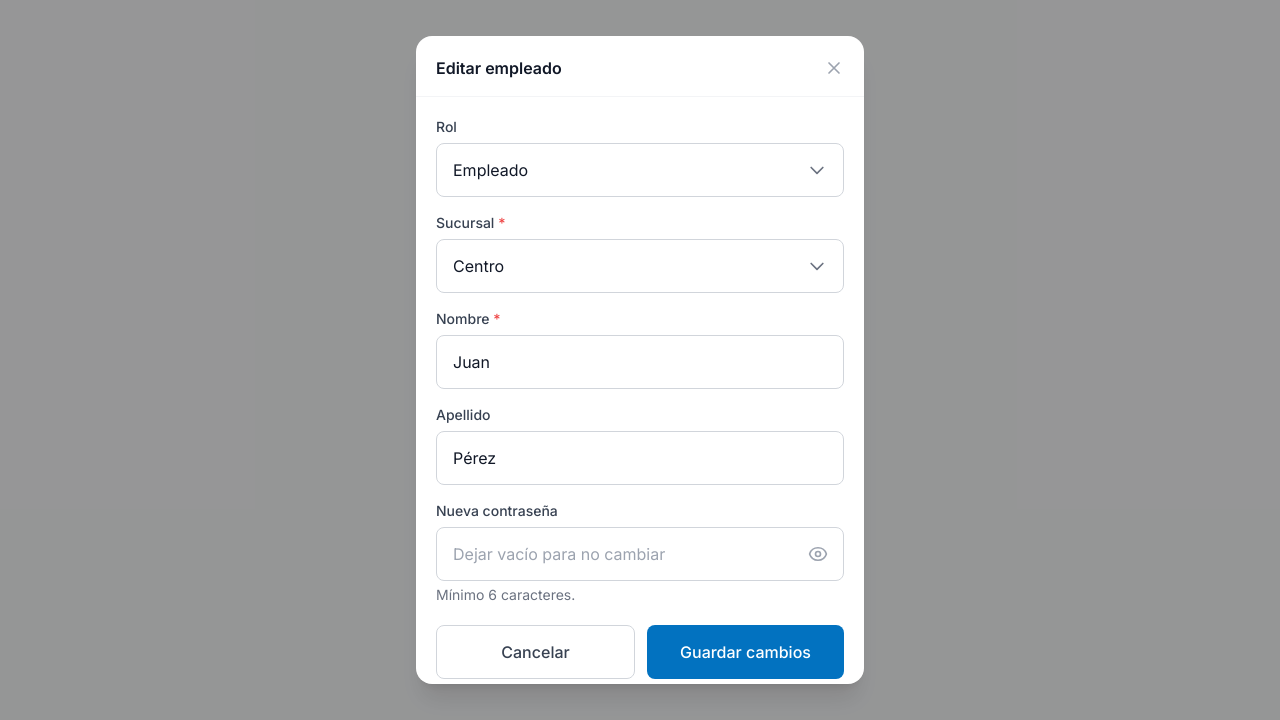
EmpleadoEditModal › muestra el error que devuelve el api
Click the button "Guardar cambios" at {"x": 746, "y": 652}, box [647,625,844,679]
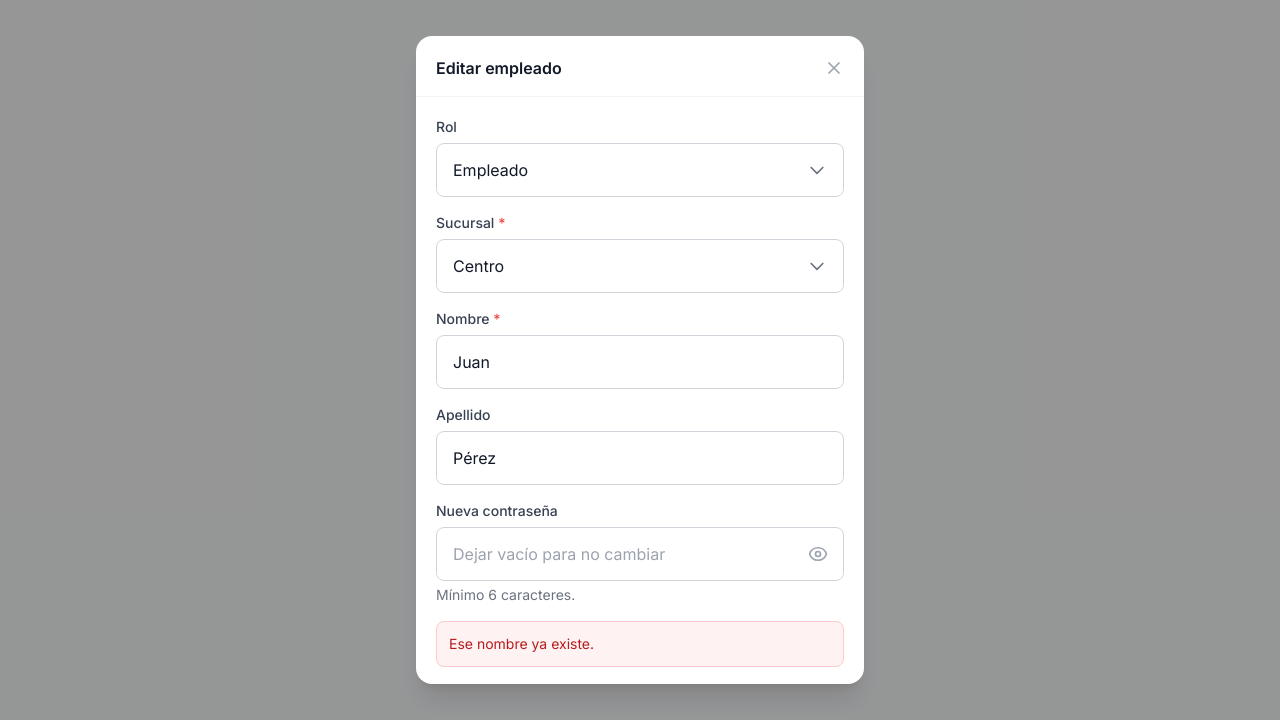
Expected: the text "Ese nombre ya existe." is shown, [436,621,844,667]
